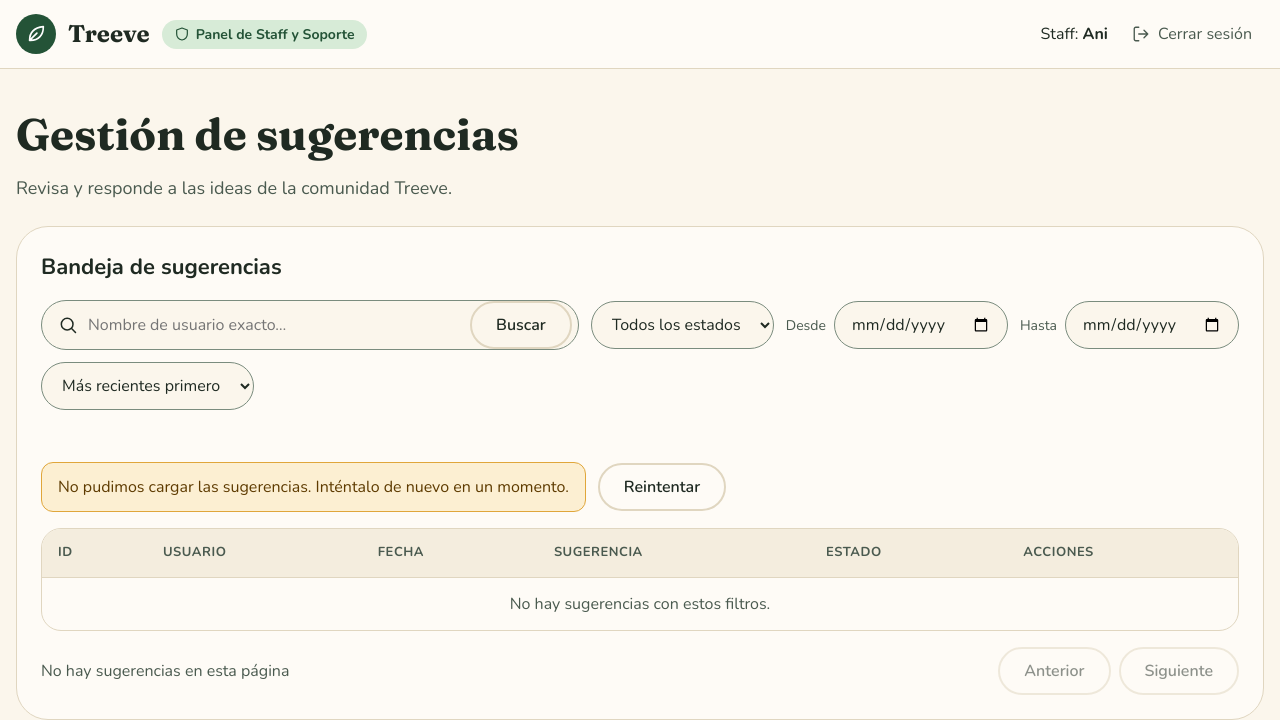
Test: PanelSugerencias cuando la fuente solo consulta (no permite cambiar el estado) › cuando algo falla › si no se pueden cargar las sugerencias, avisa y permite reintentar
The image size is (1280, 720).
Check: the message shows "No pudimos cargar las sugerencias", box [58,476,569,498]
Click the button "Reintentar" at (662, 487), box [598,463,726,511]
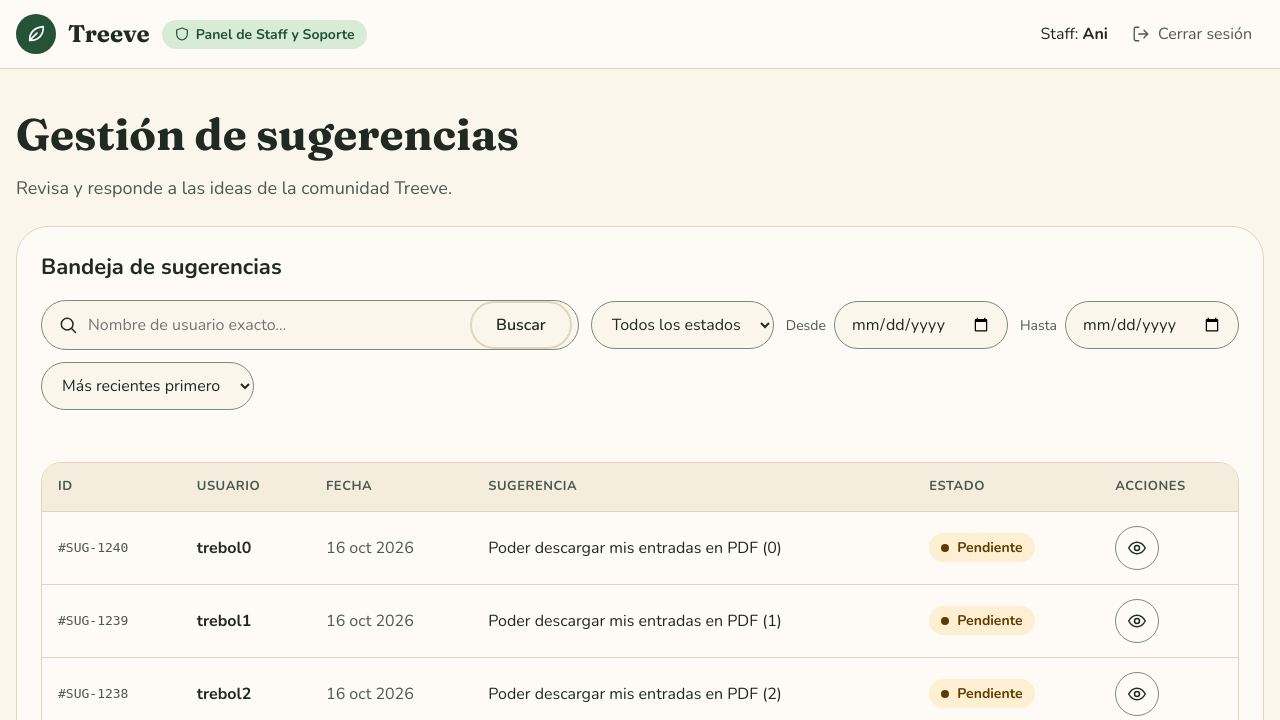
Check: the text "trebol0" is shown, box [181,511,310,584]
Check: the text "No pudimos cargar" is gone
